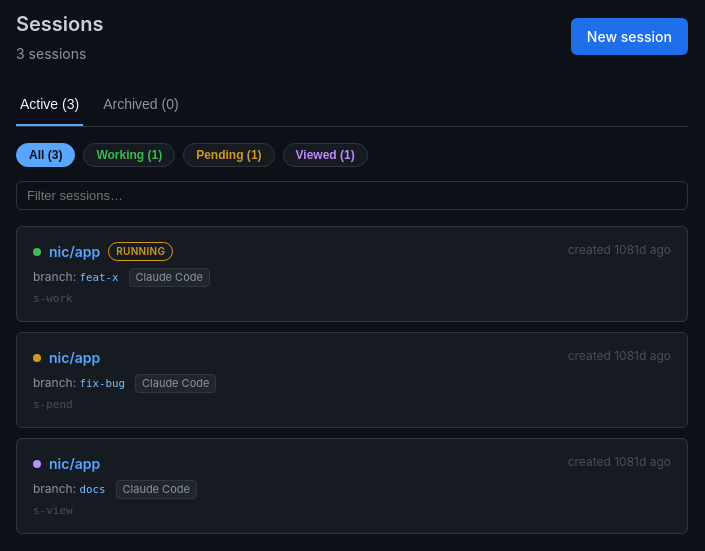
Test case: SessionList › hides all grouping UI when listGroups fails (older backend) but chips still work
Expected: the text "s-work" is shown, x1=33 y1=292 x2=73 y2=304
// Chips still filter via the client-side attention fallback.
Click the button "Working (1)": (129, 155) x1=83 y1=143 x2=175 y2=167
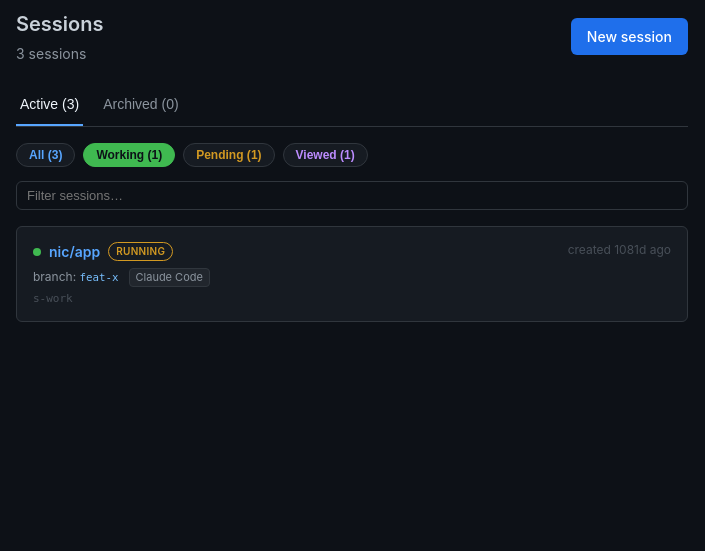
Expected: the text "feat-x" is shown, x1=80 y1=271 x2=118 y2=284
Result: the link "fix-bug" is gone
